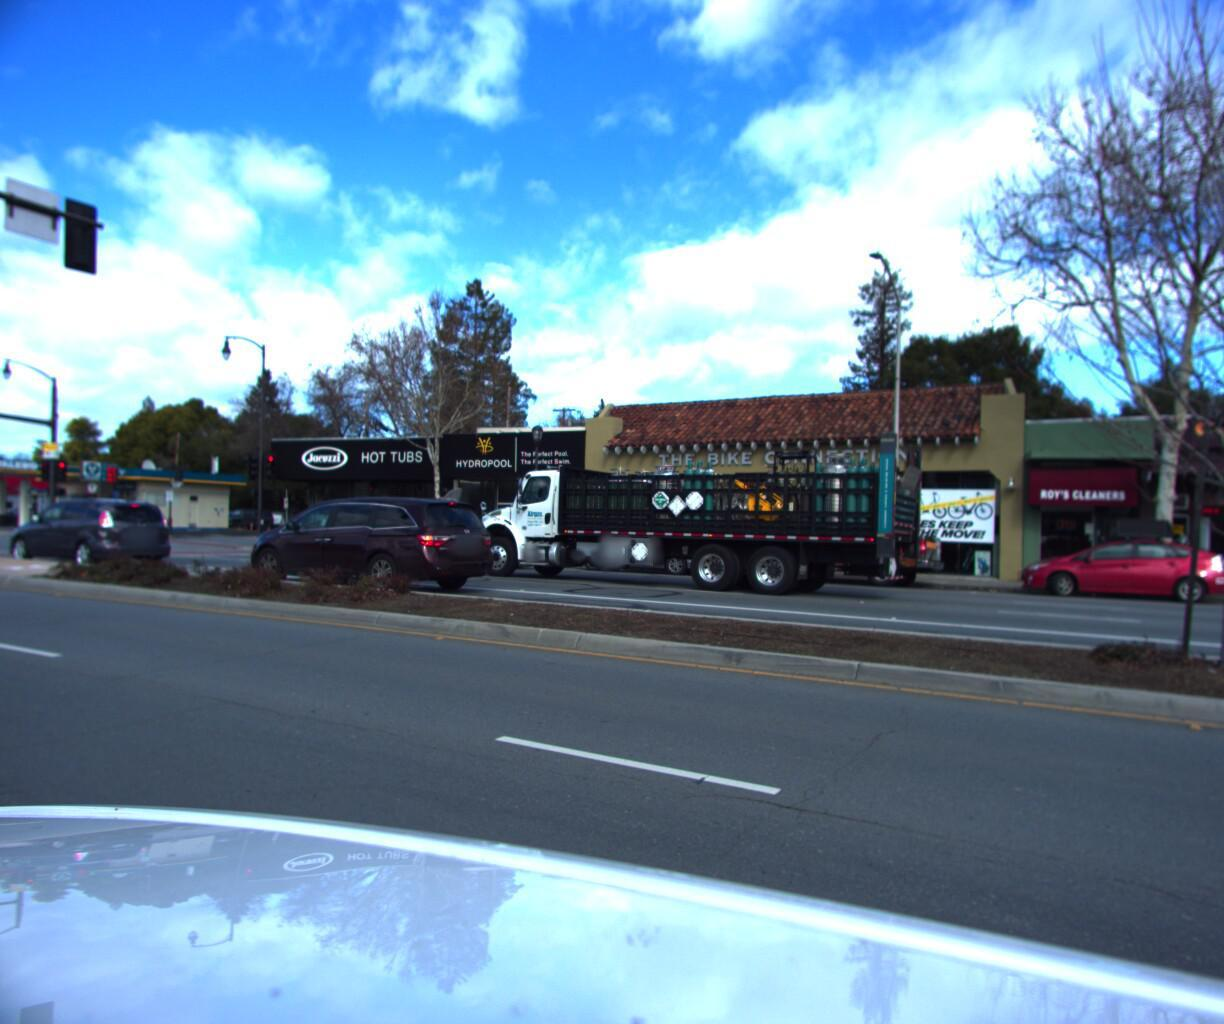car: (228, 497, 509, 596), (1009, 513, 1224, 602), (721, 513, 948, 589), (562, 528, 726, 579)
truck: (460, 415, 939, 606)
